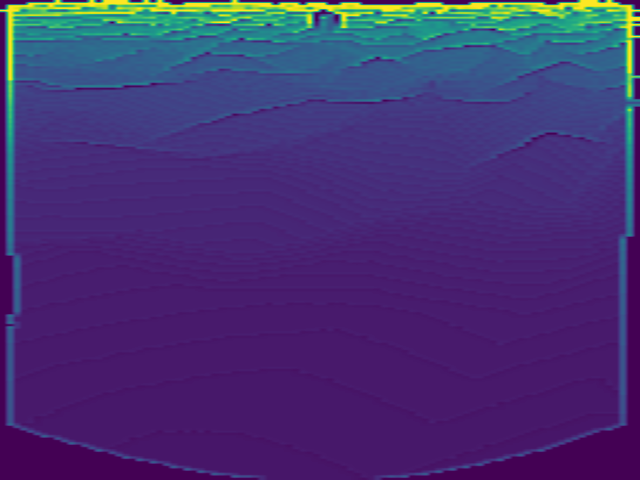car_0198: (307, 9, 345, 33)
